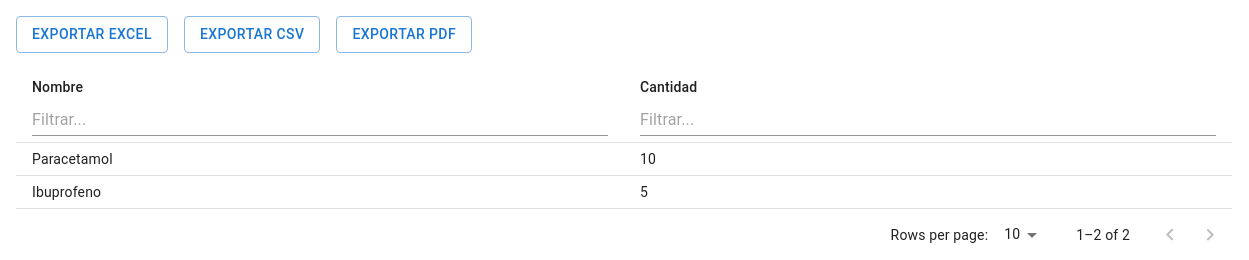
Test: TablaDinamica › filtra los datos por columna
The width and height of the screenshot is (1249, 260).
In the field with placeholder "Filtrar..." below "Nombre": (320, 121) [32,106,608,136], type "Ibu"
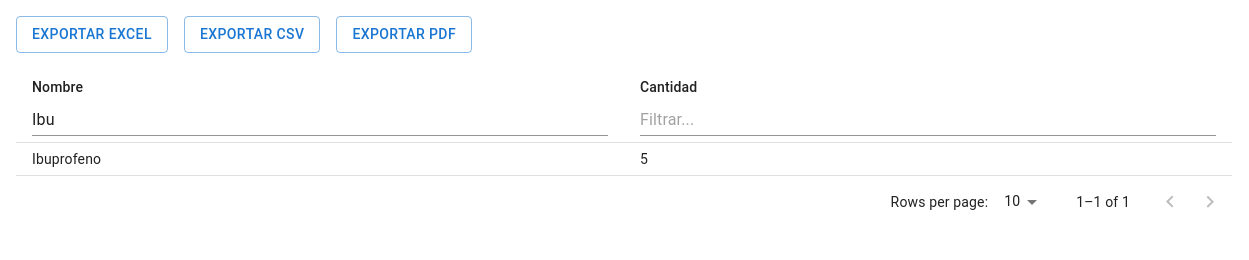
Expected: the text "Ibuprofeno" is shown, [16,142,624,175]
Expected: the text "Paracetamol" is gone
